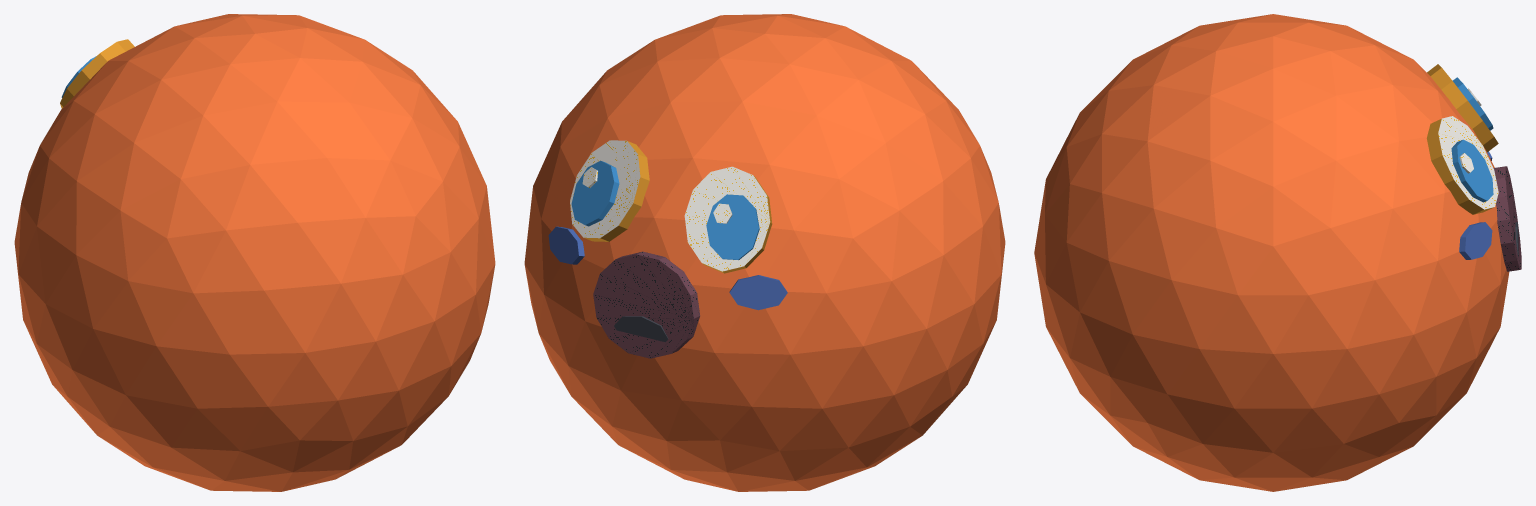
The model's file is CH_Topik_T2_Eat.fbx.
The picture shows the model from 3 angles, left to right: view 1: azimuth 30°, elevation 25°; view 2: azimuth 150°, elevation 25°; view 3: azimuth 270°, elevation 25°; orthographic projection.
Visible parts, largest first — view 1: CH_Topik_T2_Eat; view 2: CH_Topik_T2_Eat; view 3: CH_Topik_T2_Eat.
Part boxes in pixels (x1,y1,x2,y2): CH_Topik_T2_Eat: (14, 14, 495, 491); CH_Topik_T2_Eat: (524, 14, 1005, 491); CH_Topik_T2_Eat: (1034, 14, 1521, 491).
Bounding box in the file's own units: 1 × 1 × 1.02.
